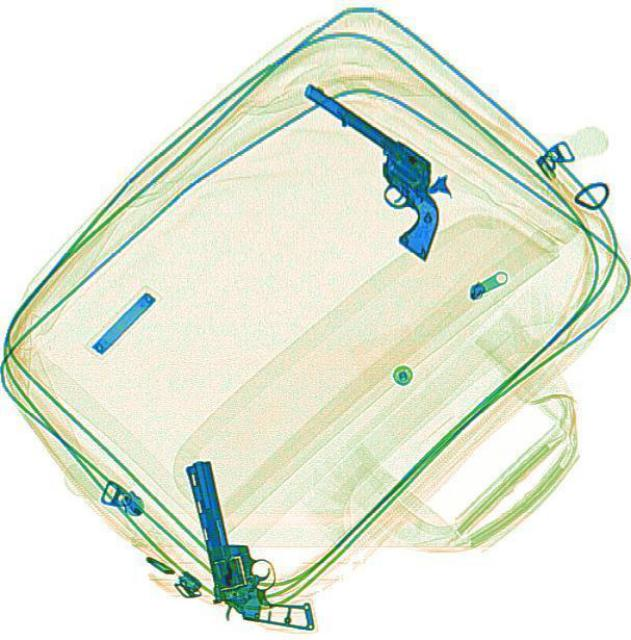Gun: (254, 78, 477, 260), (182, 445, 315, 637)
